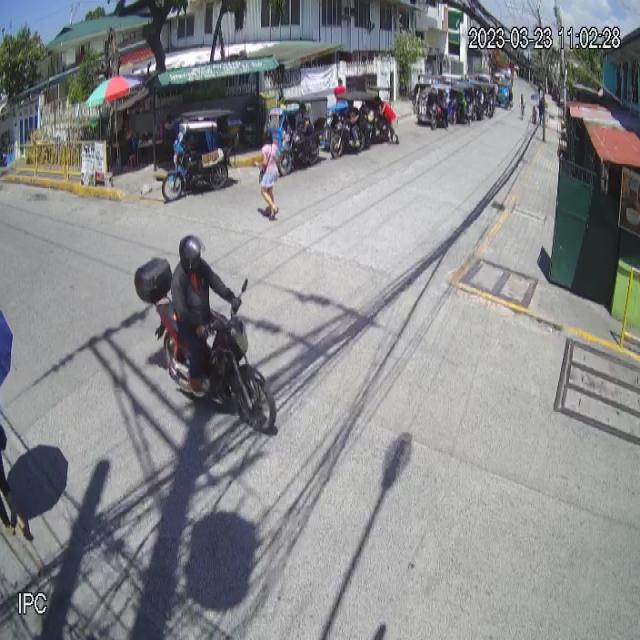Motorcycle: (133, 256, 277, 436)
